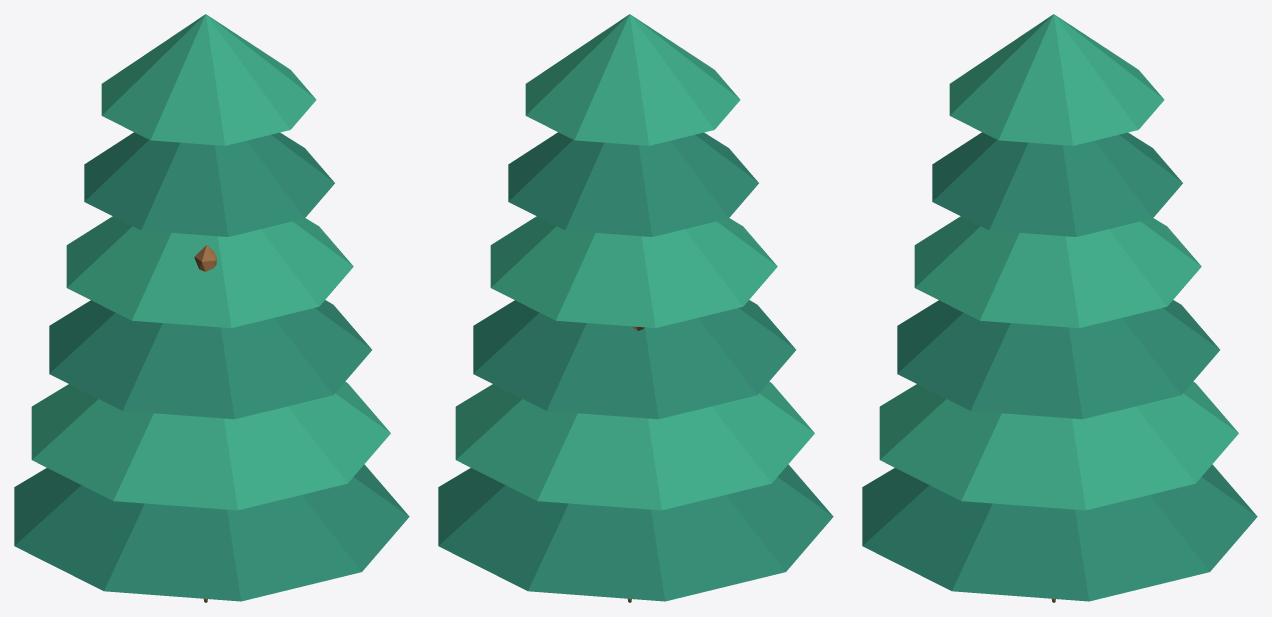
File: mature.glb
The picture shows the model from 3 angles, left to right: view 1: azimuth 30°, elevation 25°; view 2: azimuth 150°, elevation 25°; view 3: azimuth 270°, elevation 25°; orthographic projection.
Visible parts, largest first — view 1: Needle_Tier_01, Needle_Tier_02, Needle_Tier_03, Needle_Tier_04, Needle_Tier_05, Needle_Tier_06; view 2: Needle_Tier_01, Needle_Tier_02, Needle_Tier_03, Needle_Tier_04, Needle_Tier_05, Needle_Tier_06; view 3: Needle_Tier_01, Needle_Tier_02, Needle_Tier_03, Needle_Tier_04, Needle_Tier_05, Needle_Tier_06.
Part boxes in pixels (x1,y1,x2,y2): Needle_Tier_01: (14, 464, 409, 601); Needle_Tier_02: (31, 381, 390, 510); Needle_Tier_03: (49, 300, 371, 419); Needle_Tier_04: (66, 216, 353, 328); Needle_Tier_05: (84, 132, 334, 236); Needle_Tier_06: (101, 14, 316, 145); Needle_Tier_01: (438, 464, 833, 601); Needle_Tier_02: (455, 381, 814, 510); Needle_Tier_03: (473, 300, 795, 419); Needle_Tier_04: (490, 216, 777, 328); Needle_Tier_05: (508, 132, 758, 236); Needle_Tier_06: (525, 14, 740, 145); Needle_Tier_01: (862, 464, 1257, 601); Needle_Tier_02: (879, 381, 1238, 510); Needle_Tier_03: (897, 300, 1219, 419); Needle_Tier_04: (914, 216, 1201, 328); Needle_Tier_05: (932, 132, 1182, 236); Needle_Tier_06: (949, 14, 1164, 145).
Bounding box in the file's own units: 2.63 × 3.77 × 2.59.
